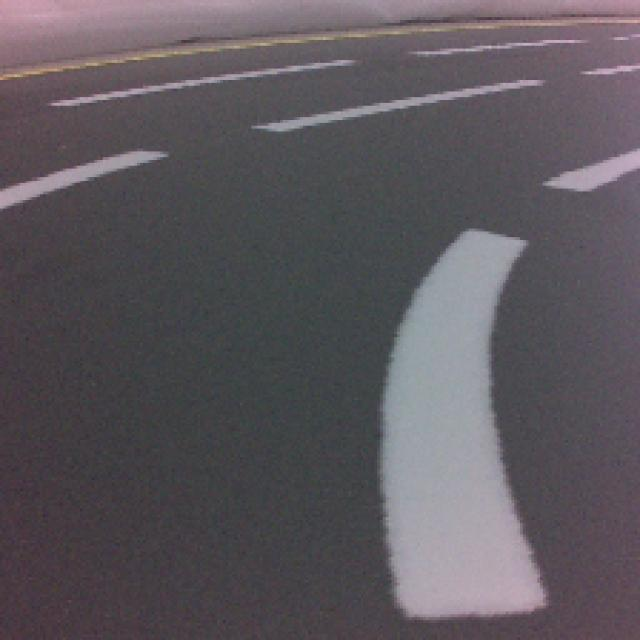Pedestrian crosswalk: (382, 228, 550, 613)
